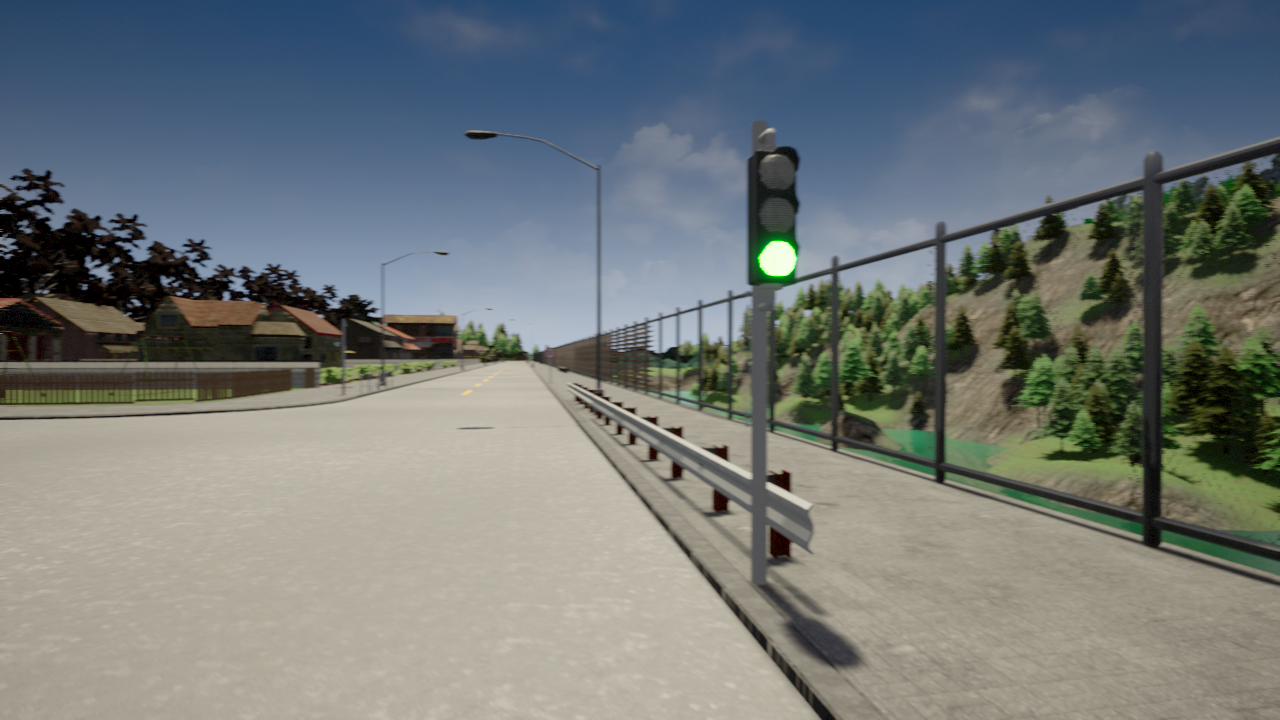green: (744, 145, 802, 288)
